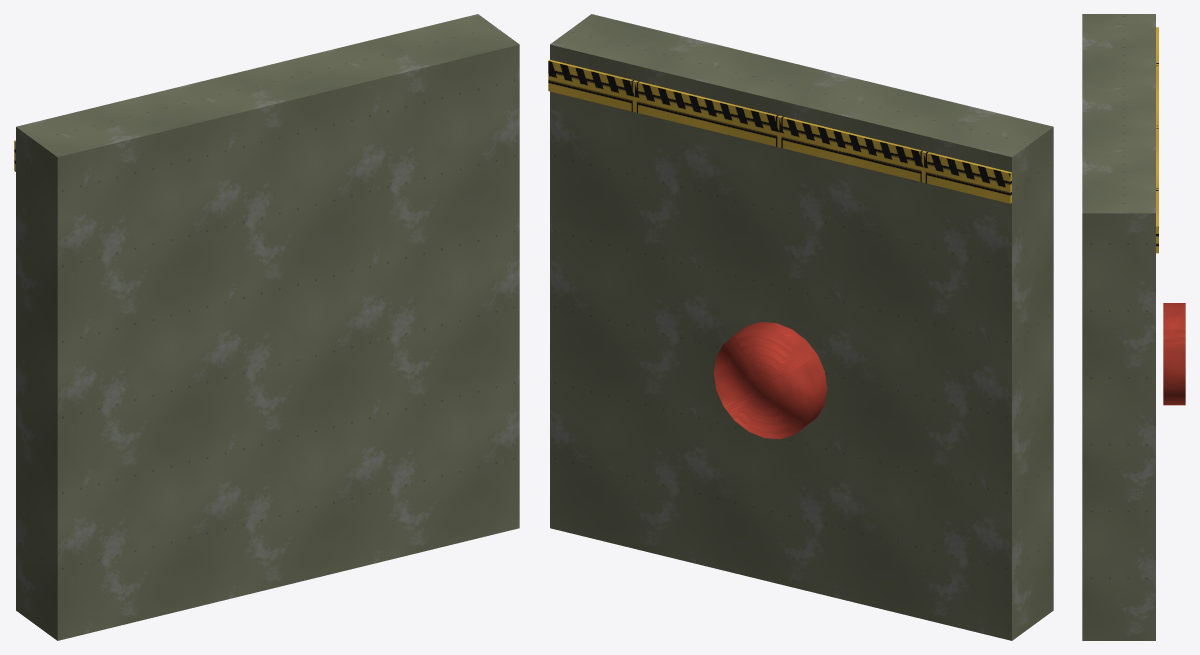
Rendered from blast_door.glb.
3 renders of one model, left to right at view 1: azimuth 30°, elevation 25°; view 2: azimuth 150°, elevation 25°; view 3: azimuth 270°, elevation 25°, orthographic. The views are drawn at different scales.
Parts seen in each view (by area): view 1: blast_door; view 2: blast_door; view 3: blast_door.
Part boxes in pixels (x1,y1,x2,y2): blast_door: (14, 14, 519, 640); blast_door: (548, 14, 1053, 640); blast_door: (1082, 14, 1185, 640).
Bounding box in the file's own units: 3.2 × 3.2 × 0.7.
3 materials, 3 textured.
